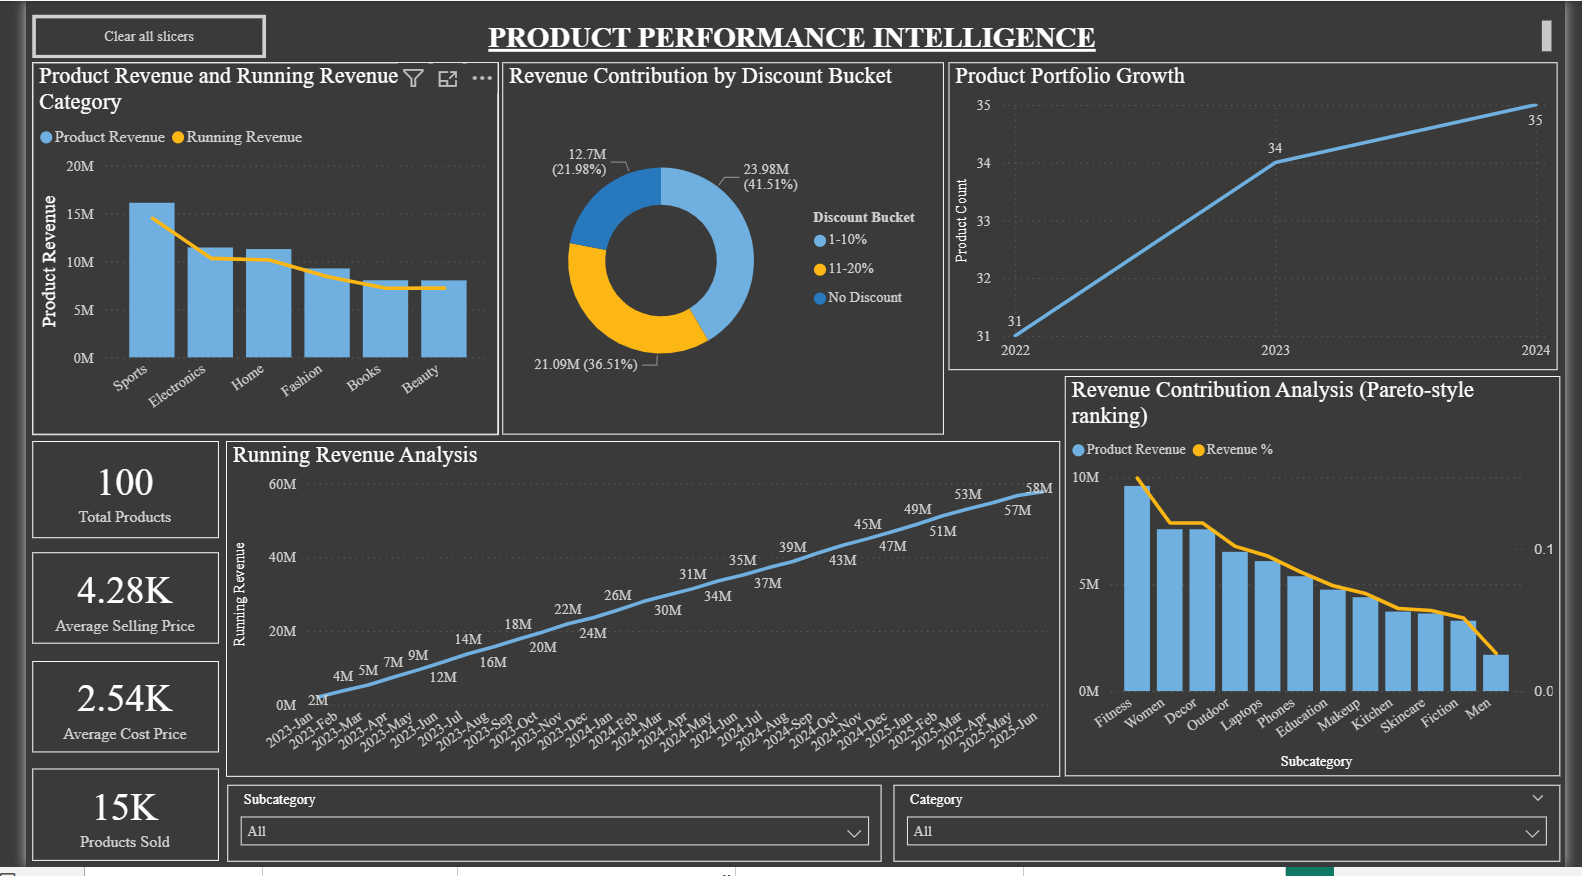

This screenshot's page, from the dashboard's own definition file:
{"tool":"powerbi","page":{"name":"Product Performance Intelligence","canvas":[1280,720],"ordinal":2},"visuals":[{"type":"textbox","box":[8.3,11.4,1264.8,36.4],"z":0},{"type":"card","fields":{"Values":["CountNonNull(products.product_id)"]},"box":[5.2,365.8,154.9,81.1],"z":1000},{"type":"card","fields":{"Values":["Avg(products.selling_price)"]},"box":[5.2,458.3,154.9,75.9],"z":2000},{"type":"card","fields":{"Values":["Avg(products.cost_price)"]},"box":[5.2,548.7,154.9,75.9],"z":3000},{"type":"card","fields":{"Values":["KPI Measures.Products Sold"]},"box":[5.2,638.1,154.9,76.9],"z":4000},{"type":"lineClusteredColumnComboChart","title":"Product Revenue and Running Revenue by Category","fields":{"Category":["products.category"],"Y":["products.Product Revenue"],"Y2":["KPI Measures.Running Revenue"]},"box":[5,51.2,388.1,309.5],"z":5000},{"type":"lineChart","title":"Running Revenue Analysis","fields":{"Category":["Dim_Date.Year Month"],"Y":["KPI Measures.Running Revenue"]},"box":[166,365.6,693.8,279.5],"z":6000},{"type":"lineChart","title":"Product Portfolio Growth","fields":{"Category":["products.launch_date.Variation.Date Hierarchy.Year","products.launch_date.Variation.Date Hierarchy.Quarter","products.launch_date.Variation.Date Hierarchy.Month","products.launch_date.Variation.Date Hierarchy.Day"],"Y":["CountNonNull(products.product_id)"]},"box":[767.4,51.2,506.6,255.8],"z":7000},{"type":"lineStackedColumnComboChart","title":"Revenue Contribution Analysis (Pareto-style ranking)","fields":{"Category":["products.subcategory"],"Y":["products.Product Revenue"],"Y2":["KPI Measures.Revenue %"]},"box":[863.5,312,411.8,333.2],"z":8000},{"type":"donutChart","title":"Revenue Contribution by Discount Bucket","fields":{"Category":["orders.Discount Bucket"],"Y":["KPI Measures.Total Revenue"]},"box":[396,50.9,366.9,309.7],"z":9000},{"type":"slicer","fields":{"Values":["products.category"]},"box":[721.2,651.4,554,63.6],"z":10000},{"type":"slicer","fields":{"Values":["products.subcategory"]},"box":[167.2,651.4,544,63.6],"z":11000},{"type":"actionButton","box":[5.2,11.4,194.3,36.4],"z":12000}]}

Visuals, with their boxes in screenshot pixels (x1, y1, x2, y2), scaled from the page's 1280x720 canvas onto the 1582x876 screenshot:
textbox: box=[10, 14, 1573, 58]
card - CountNonNull(products.product_id): box=[6, 445, 198, 544]
card - Avg(products.selling_price): box=[6, 558, 198, 650]
card - Avg(products.cost_price): box=[6, 668, 198, 760]
card - KPI Measures.Products Sold: box=[6, 776, 198, 870]
"Product Revenue and Running Revenue by Category" lineClusteredColumnComboChart: box=[6, 62, 486, 439]
"Running Revenue Analysis" lineChart: box=[205, 445, 1063, 785]
"Product Portfolio Growth" lineChart: box=[948, 62, 1575, 374]
"Revenue Contribution Analysis (Pareto-style ranking)" lineStackedColumnComboChart: box=[1067, 380, 1576, 785]
"Revenue Contribution by Discount Bucket" donutChart: box=[489, 62, 943, 439]
slicer - products.category: box=[891, 793, 1576, 870]
slicer - products.subcategory: box=[207, 793, 879, 870]
actionButton: box=[6, 14, 247, 58]
